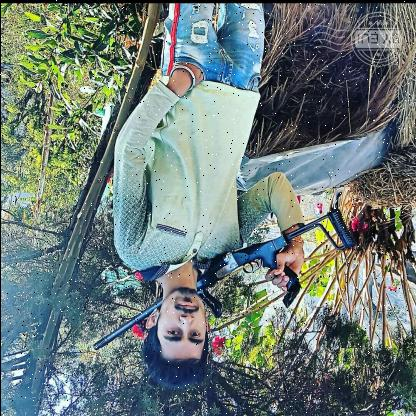rifle: (90, 203, 358, 354)
